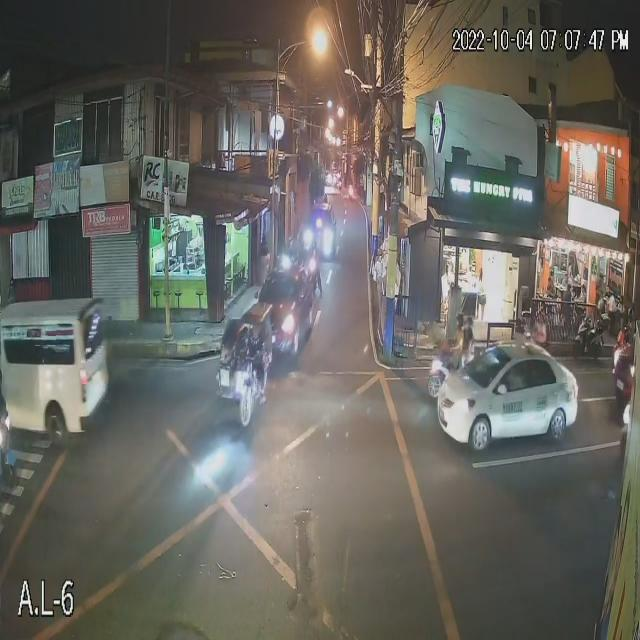helmet: (453, 313, 464, 328), (464, 316, 475, 329)
motorcycle: (426, 352, 460, 400), (571, 315, 607, 359)
rider: (448, 329, 465, 372), (462, 327, 475, 365)
